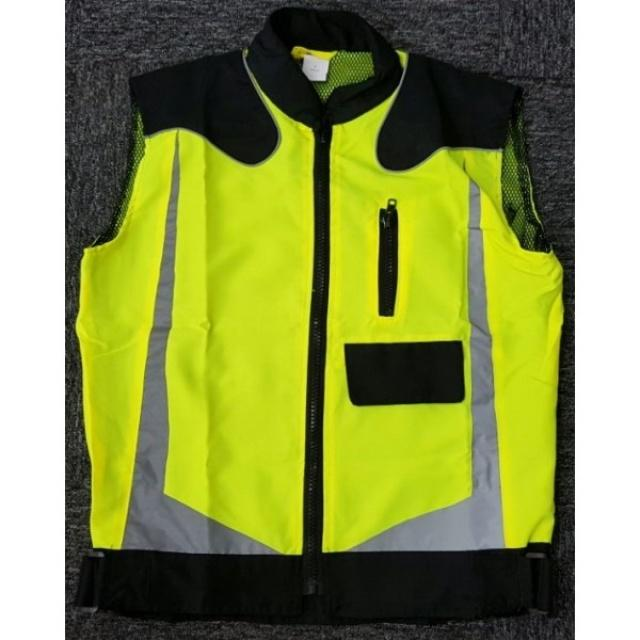vest: (74, 5, 567, 640)
